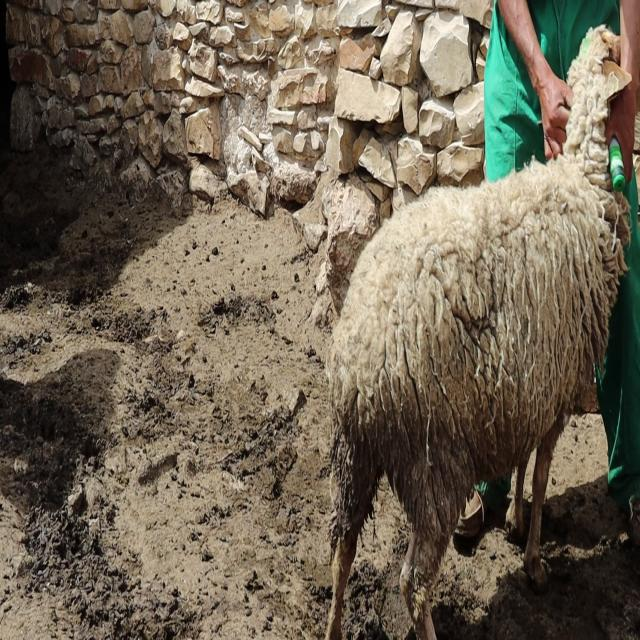Score_3: (326, 26, 631, 639)
